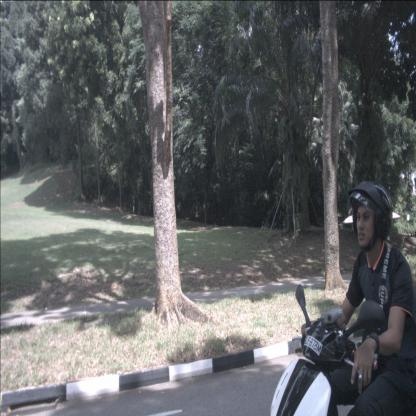vehicle-motorcycle: (270, 180, 415, 415)
